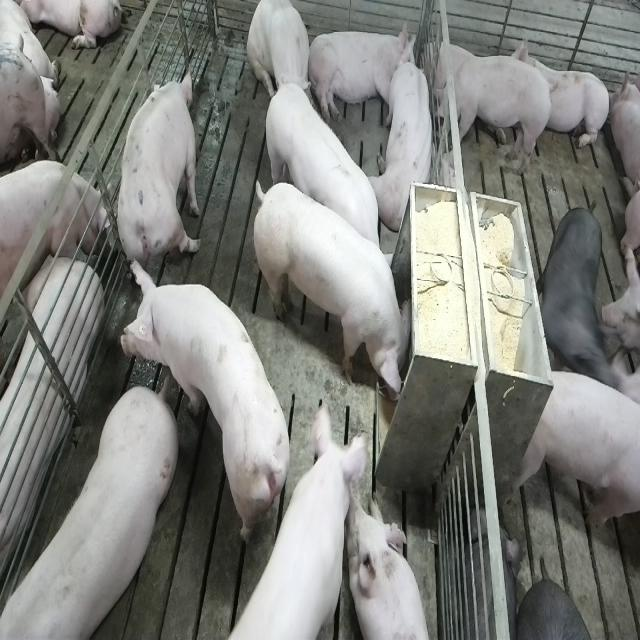Feeding: (255, 175, 419, 408)
Lateral_lying: (0, 217, 103, 587), (306, 22, 416, 127)
Sitting: (247, 0, 315, 114)
Standing: (122, 266, 294, 554), (0, 384, 175, 640), (260, 78, 392, 281), (505, 366, 638, 544), (115, 69, 204, 282), (426, 44, 554, 182), (0, 160, 106, 305)
Sternal_lying: (351, 487, 437, 638), (511, 30, 610, 154), (374, 53, 437, 233)
